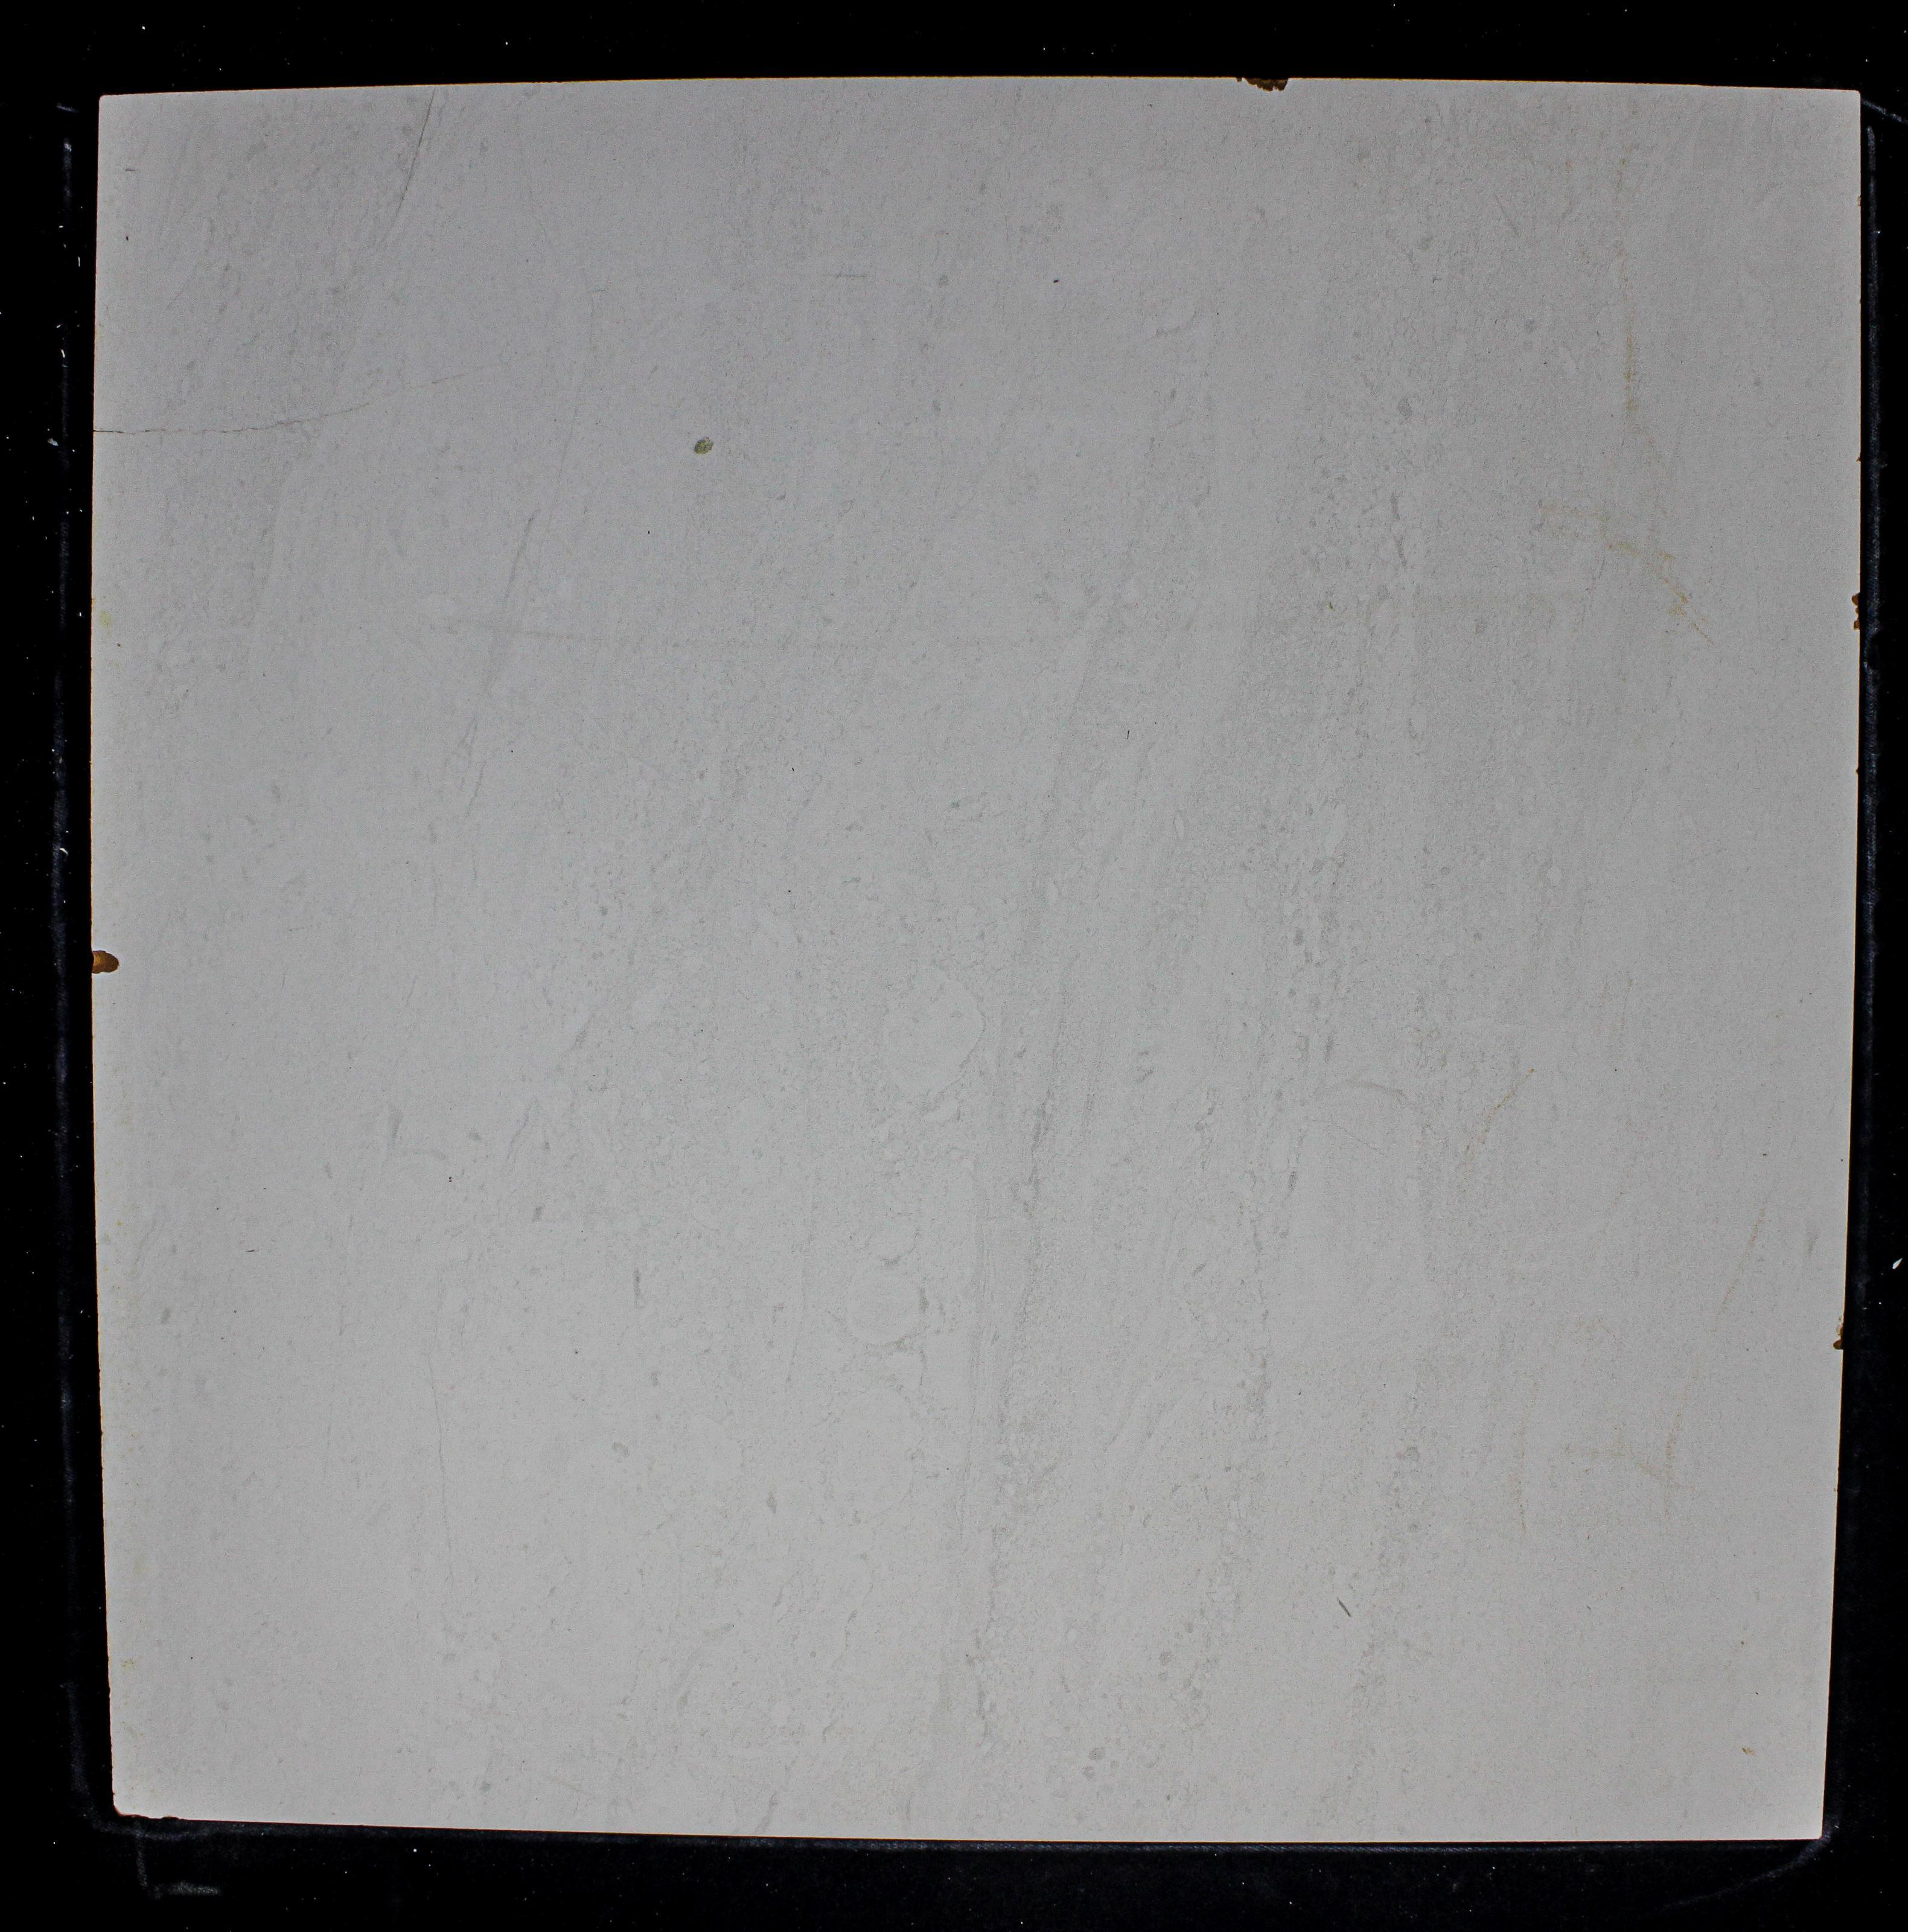edge-chipping: (1234, 73, 1291, 93), (87, 949, 121, 976), (112, 1804, 150, 1820), (1852, 589, 1863, 631), (1833, 1336, 1845, 1354)
hole: (688, 431, 716, 459)
line: (96, 397, 374, 435), (391, 89, 435, 227), (1337, 1595, 1352, 1618)
